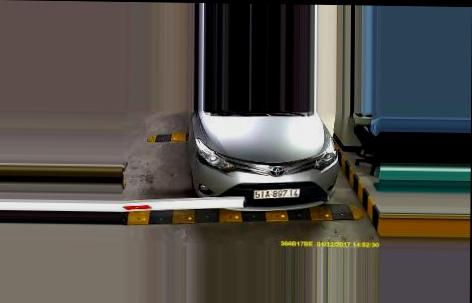License_Plate: (252, 187, 301, 201)
